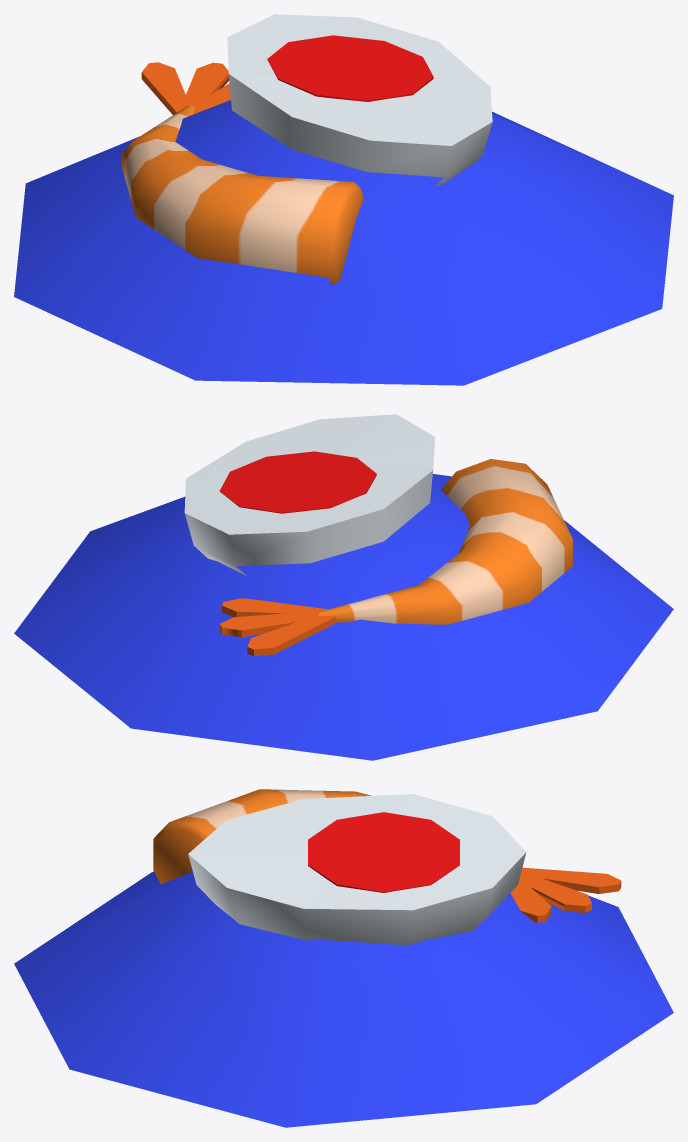
File: ramen.FBX
3 views of the same model, one above another, from view 1: azimuth 30°, elevation 25°; view 2: azimuth 150°, elevation 25°; view 3: azimuth 270°, elevation 25° (orthographic). The views are drawn at different scales.
Visible parts, largest first — view 1: Object259; view 2: Object259; view 3: Object259.
Part boxes in pixels (<box>): Object259: <box>14,14,673,385</box>; Object259: <box>14,414,673,760</box>; Object259: <box>14,789,673,1127</box>.
Size of the model in its own units: 1.54 by 0.406 by 1.54.
